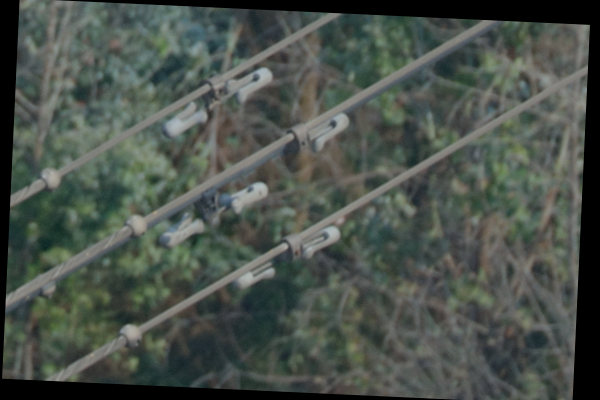damper: (156, 64, 275, 142), (156, 179, 269, 249), (230, 224, 343, 292)
damper_defect: (279, 108, 351, 162)
